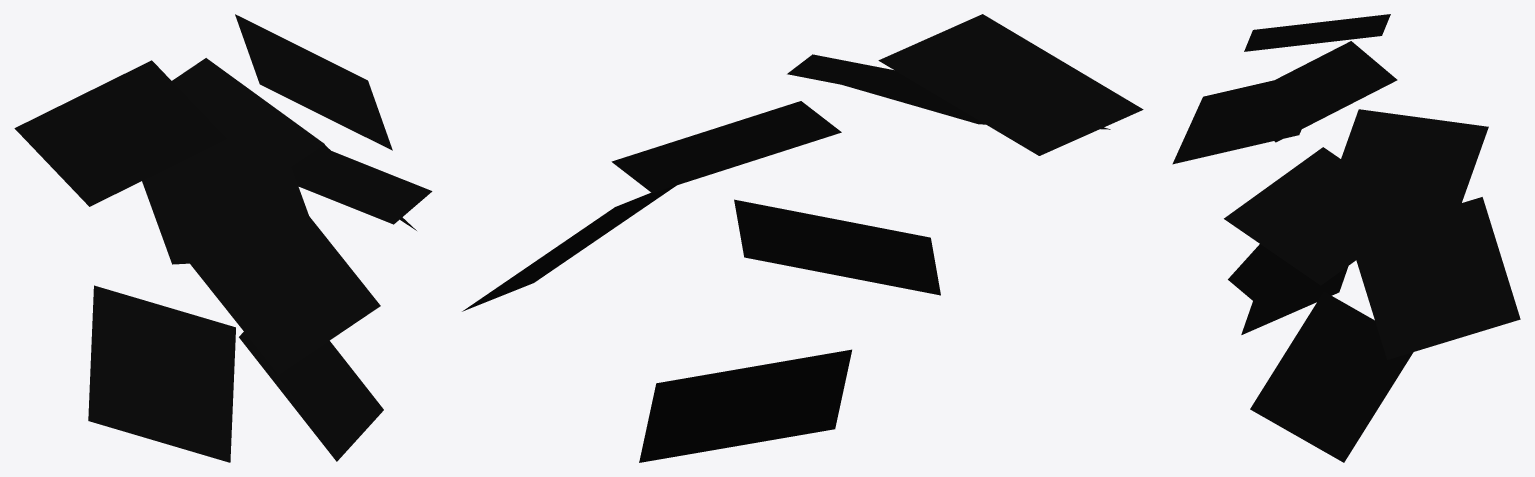
File: LeafClump1MESH_Water_1.fbx
3 renders of one model, left to right at view 1: azimuth 30°, elevation 25°; view 2: azimuth 150°, elevation 25°; view 3: azimuth 270°, elevation 25°, orthographic. The views are drawn at different scales.
Visible parts, largest first — view 1: Leaf_Clump_1; view 2: Leaf_Clump_1; view 3: Leaf_Clump_1.
Boxes of the visible parts, bbox=[...] form: Leaf_Clump_1: bbox=[14, 14, 432, 462]; Leaf_Clump_1: bbox=[462, 14, 1143, 462]; Leaf_Clump_1: bbox=[1172, 14, 1520, 462].
Bounding box in the file's own units: 74.74 × 67.92 × 63.61.
Materials: 1 (1 with a texture image).
